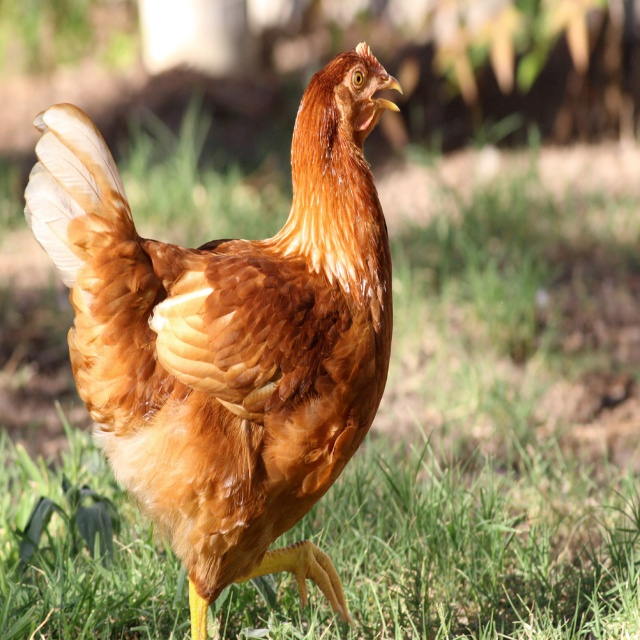Chicken: (20, 41, 402, 640)
